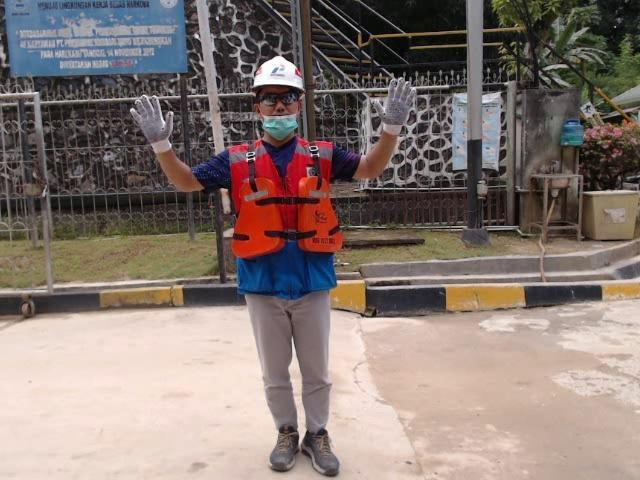vest: (230, 176, 344, 260)
